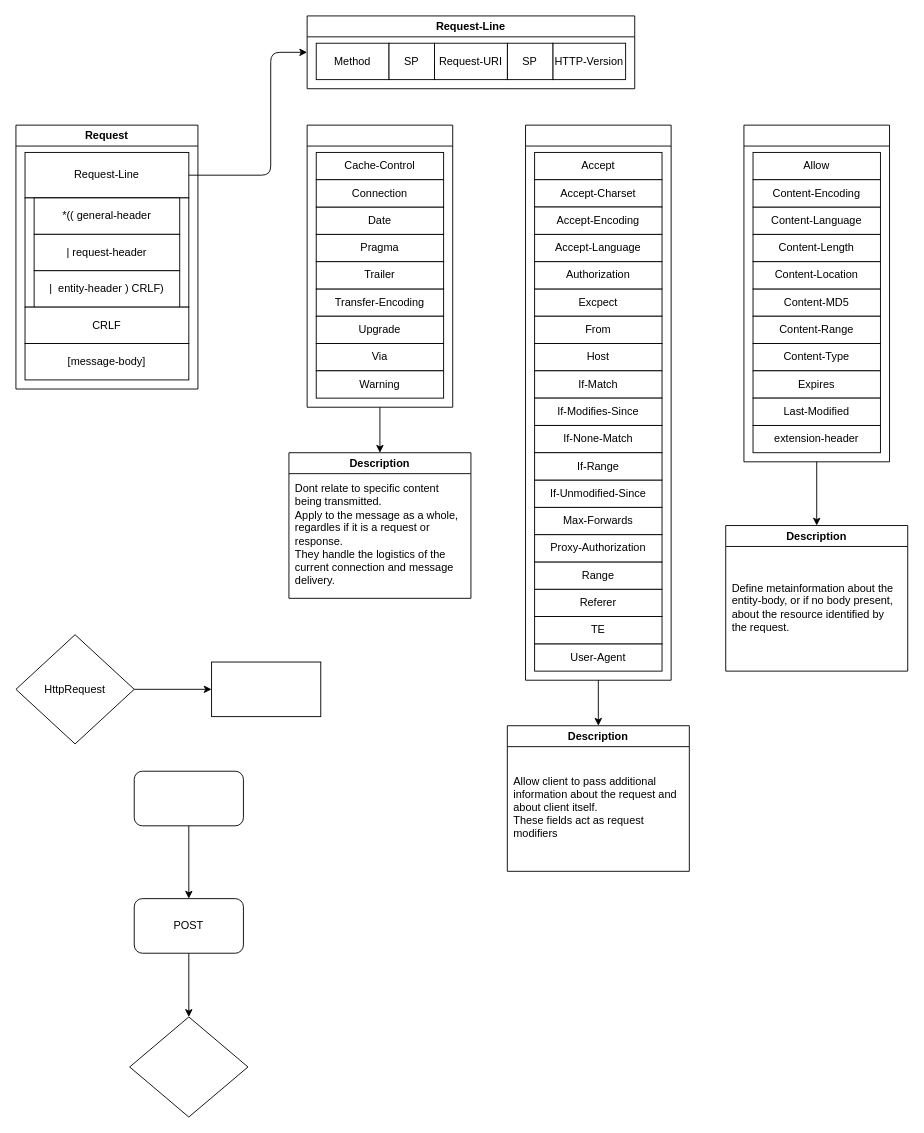
Image size: 924x1133. Some labels were removed from this diagram. Each missing label, with the box of its shape:
ABodyParser: (129, 1016, 248, 1117)
body into string: (133, 770, 243, 826)
Entity-Header: (743, 124, 890, 462)
General-Header: (306, 124, 453, 407)
parses request-line and headers.: (211, 661, 321, 717)
Request-Header: (525, 124, 671, 680)
